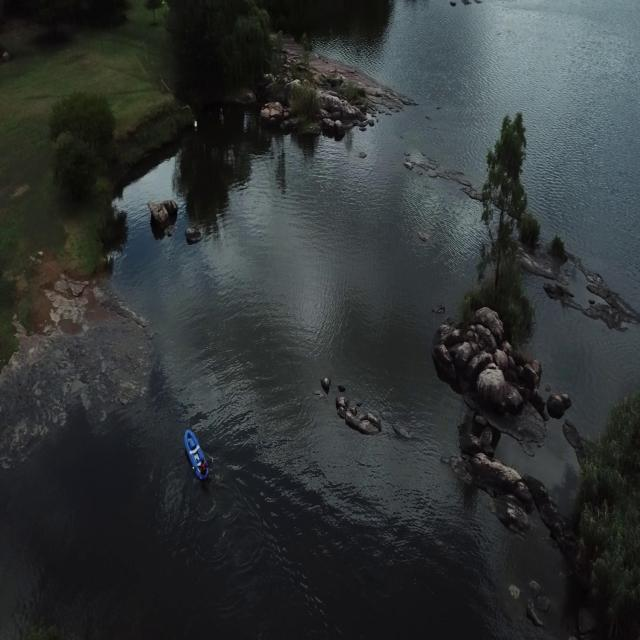kayak: (181, 426, 210, 484)
